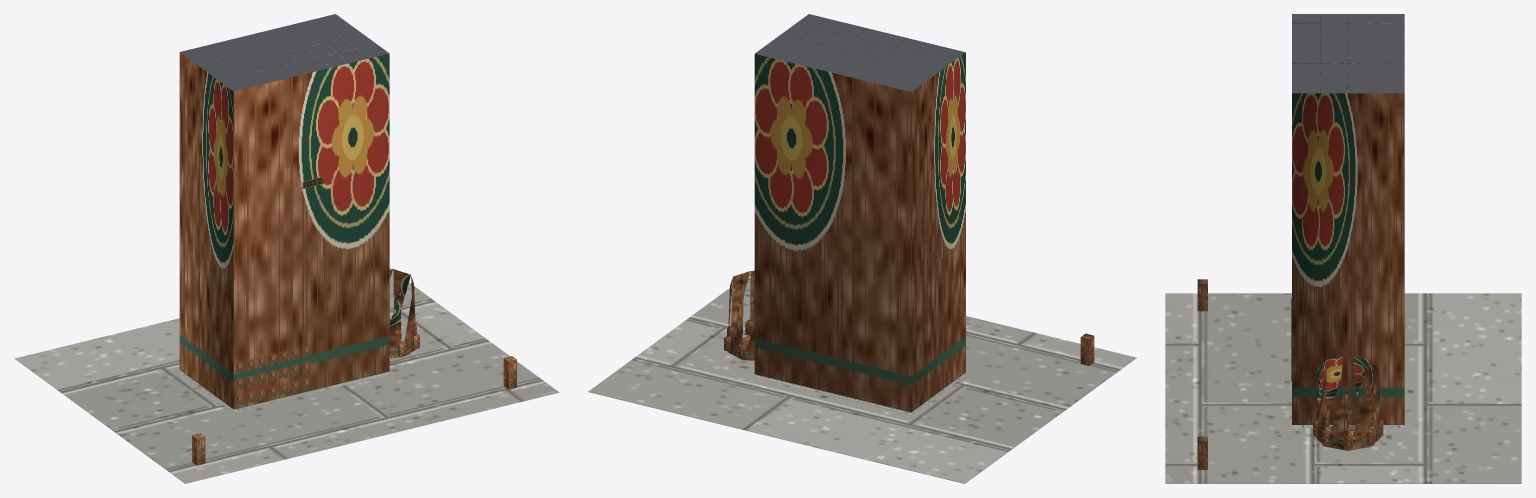
3 views of the same model, side by side, from view 1: azimuth 30°, elevation 25°; view 2: azimuth 150°, elevation 25°; view 3: azimuth 270°, elevation 25° (orthographic). The views are drawn at different scales.
Visible parts, largest first — view 1: 11680_01_06236_034_02_L2__body, 11680_01_06236_034_01_L2__base, 11680_01_06236_034_03_L2__roof, 11680_01_06236_034_05_L2__openings, 11680_01_06236_034_06_L2__green; view 2: 11680_01_06236_034_02_L2__body, 11680_01_06236_034_01_L2__base, 11680_01_06236_034_03_L2__roof; view 3: 11680_01_06236_034_01_L2__base, 11680_01_06236_034_02_L2__body, 11680_01_06236_034_03_L2__roof, 11680_01_06236_034_06_L2__green.
Part boxes in pixels (x1=…): 11680_01_06236_034_02_L2__body: x1=179, y1=20, x2=419, y2=409; 11680_01_06236_034_01_L2__base: x1=14, y1=268, x2=559, y2=483; 11680_01_06236_034_03_L2__roof: x1=180, y1=14, x2=388, y2=91; 11680_01_06236_034_05_L2__openings: x1=235, y1=345, x2=310, y2=406; 11680_01_06236_034_06_L2__green: x1=192, y1=356, x2=516, y2=465; 11680_01_06236_034_02_L2__body: x1=724, y1=19, x2=965, y2=412; 11680_01_06236_034_01_L2__base: x1=588, y1=270, x2=1136, y2=483; 11680_01_06236_034_03_L2__roof: x1=755, y1=14, x2=965, y2=91; 11680_01_06236_034_01_L2__base: x1=1165, y1=293, x2=1521, y2=483; 11680_01_06236_034_02_L2__body: x1=1292, y1=14, x2=1404, y2=450; 11680_01_06236_034_03_L2__roof: x1=1292, y1=14, x2=1404, y2=93; 11680_01_06236_034_06_L2__green: x1=1197, y1=279, x2=1207, y2=469.
Size of the model in its own units: 96 by 78.82 by 76.
Materials: 5 (5 with a texture image).
